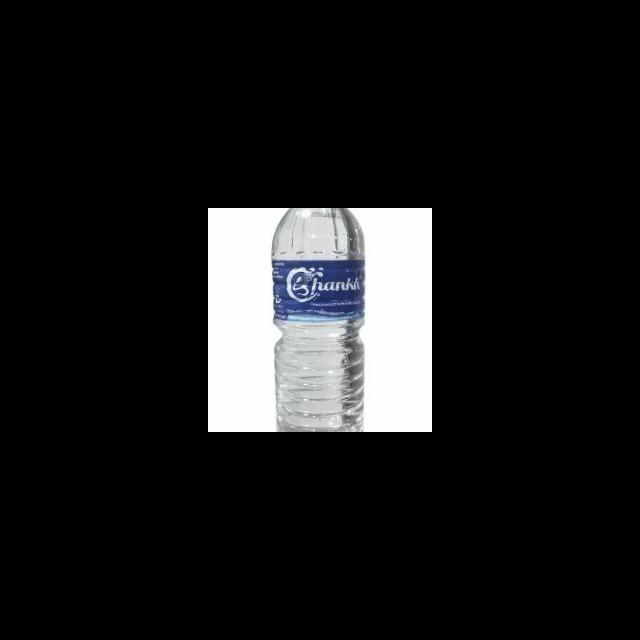plastic: (225, 208, 412, 432)
